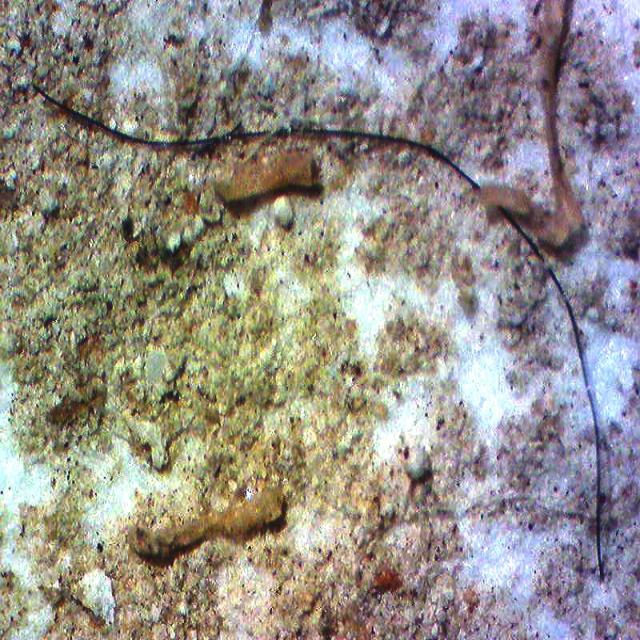microplastic: (33, 85, 480, 189)
